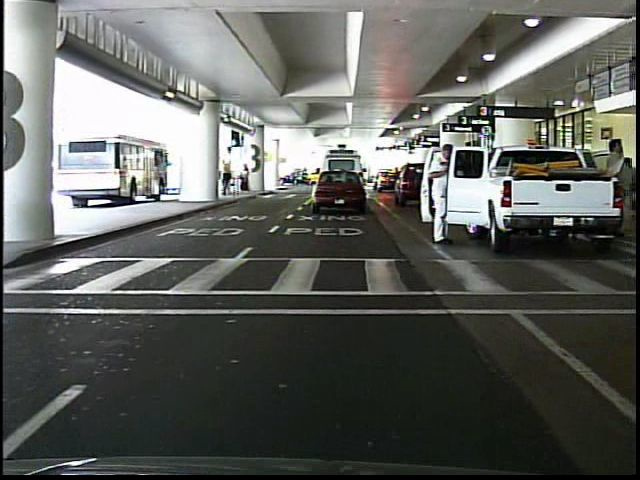person: (424, 139, 450, 245), (599, 136, 627, 234), (624, 153, 635, 214), (220, 157, 234, 198), (239, 163, 254, 195)
